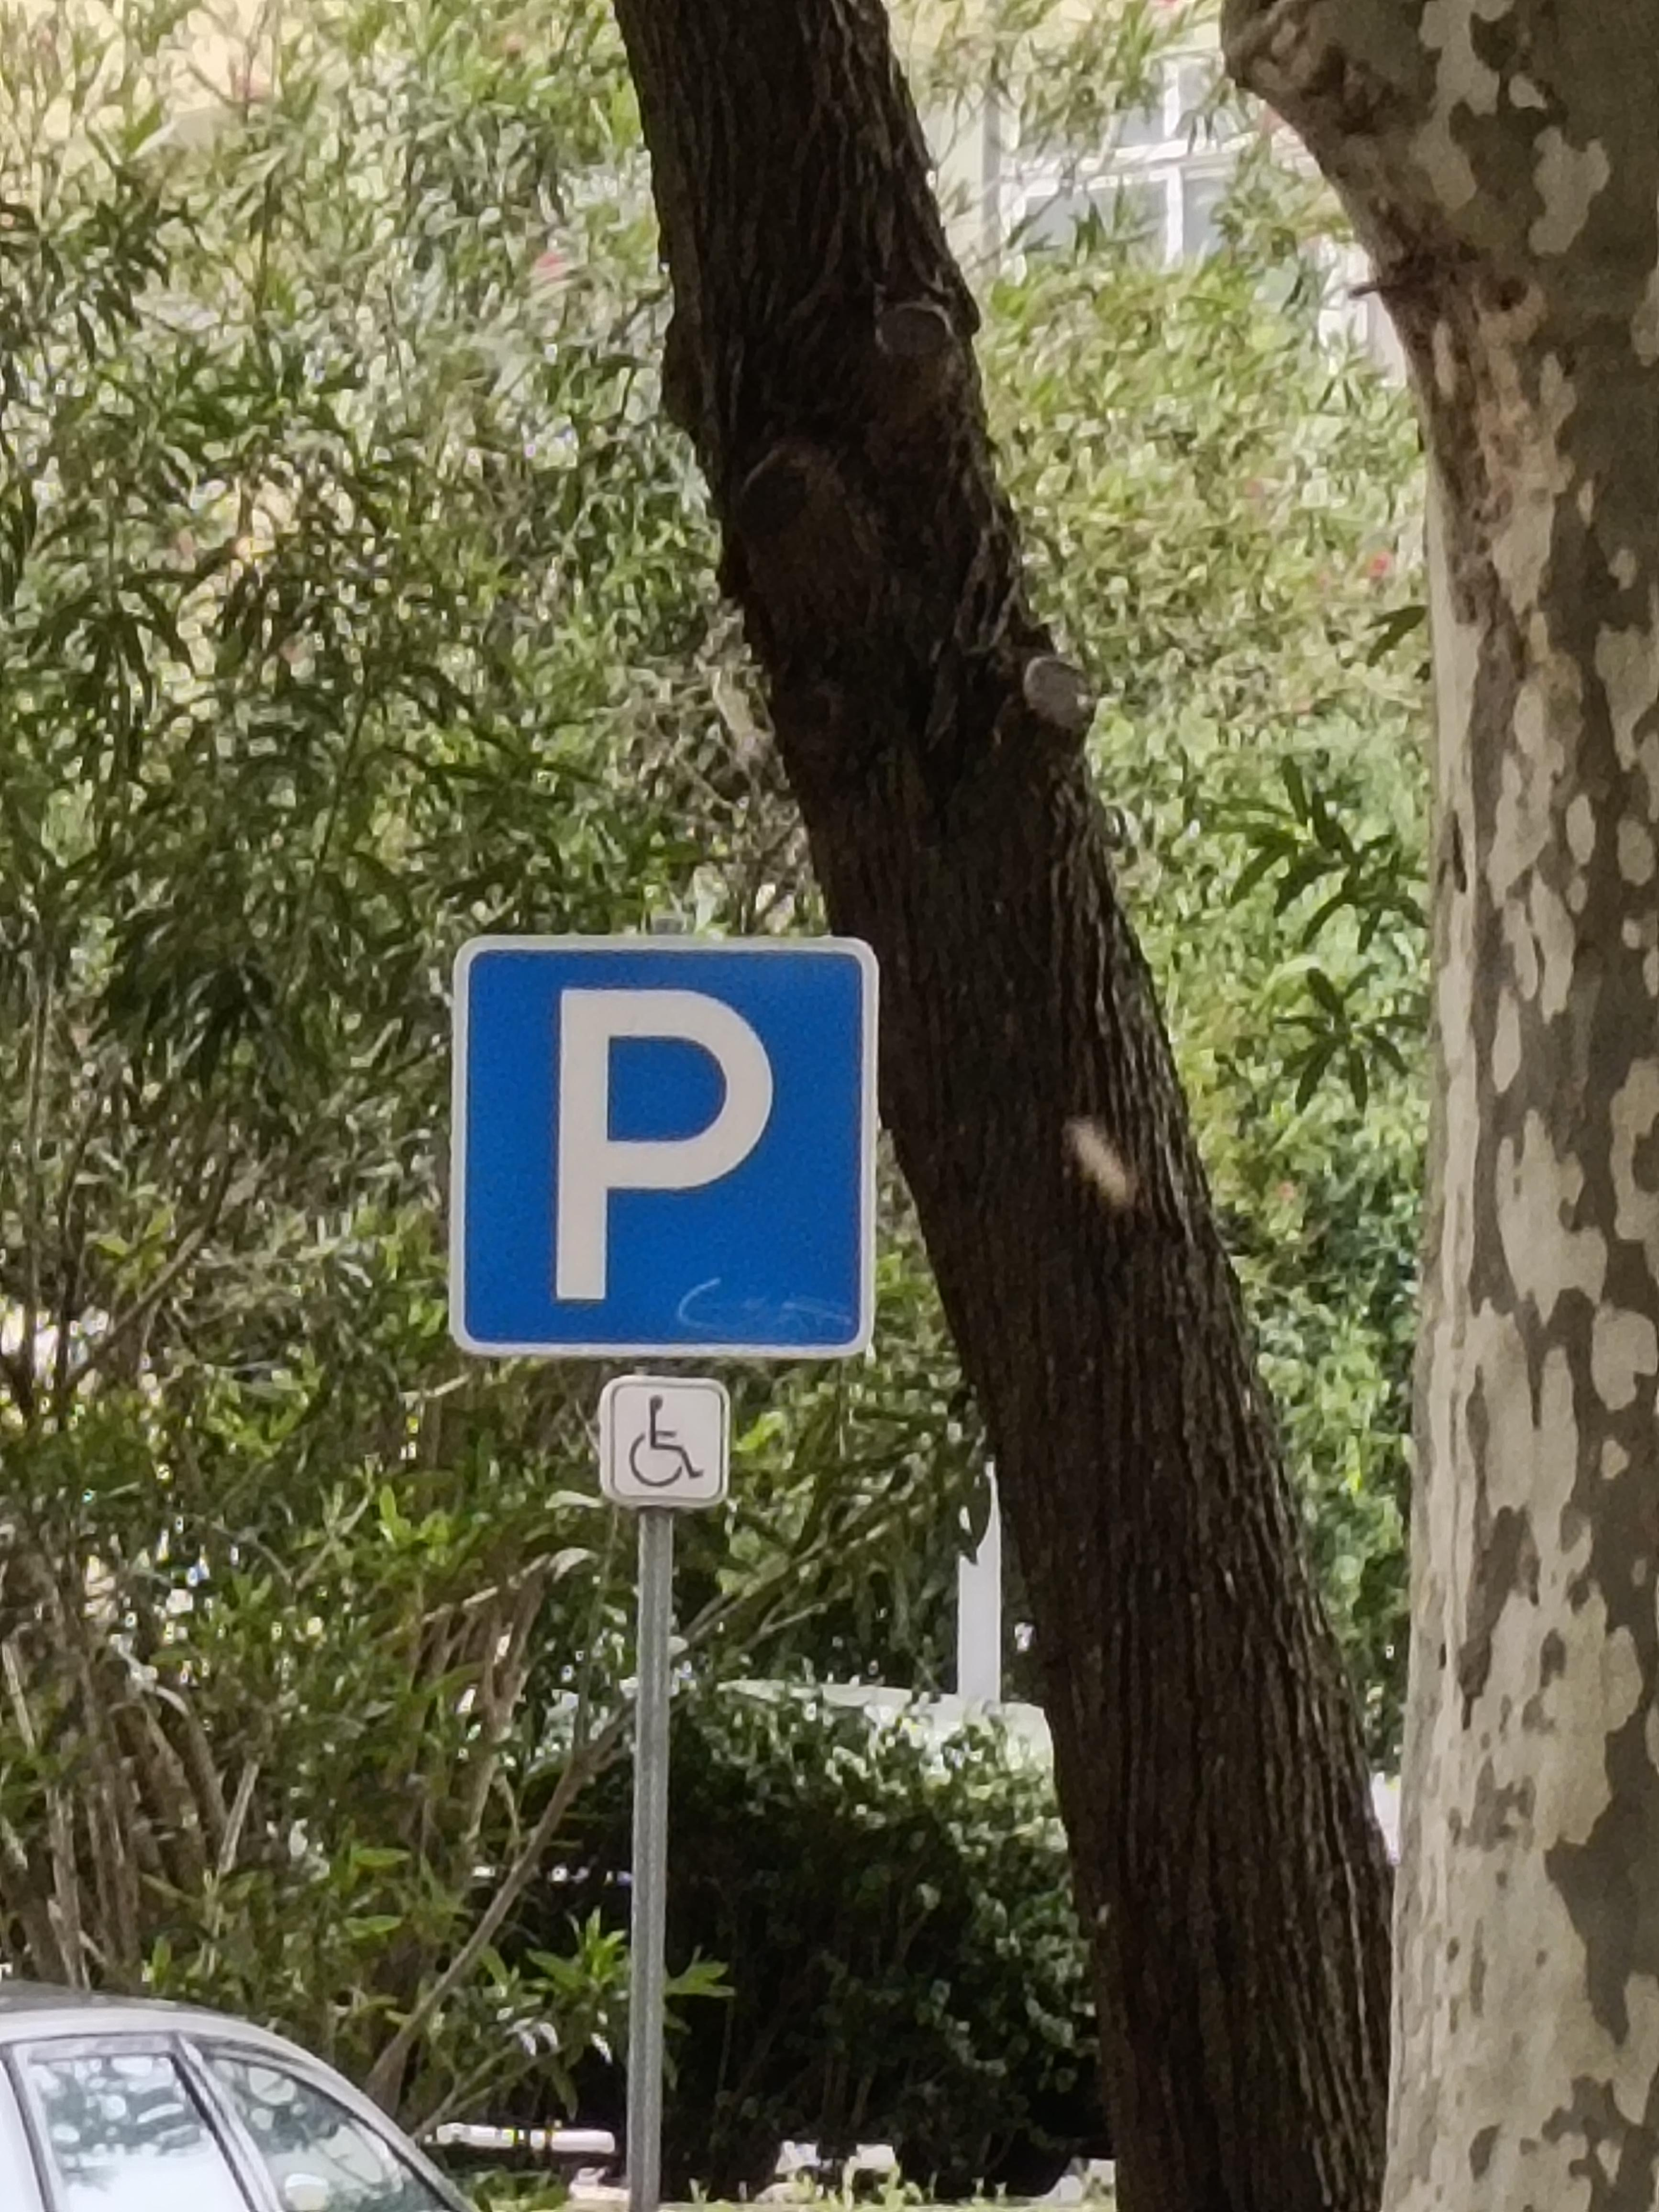Estacionamento autorizado: (425, 918, 899, 1364)
